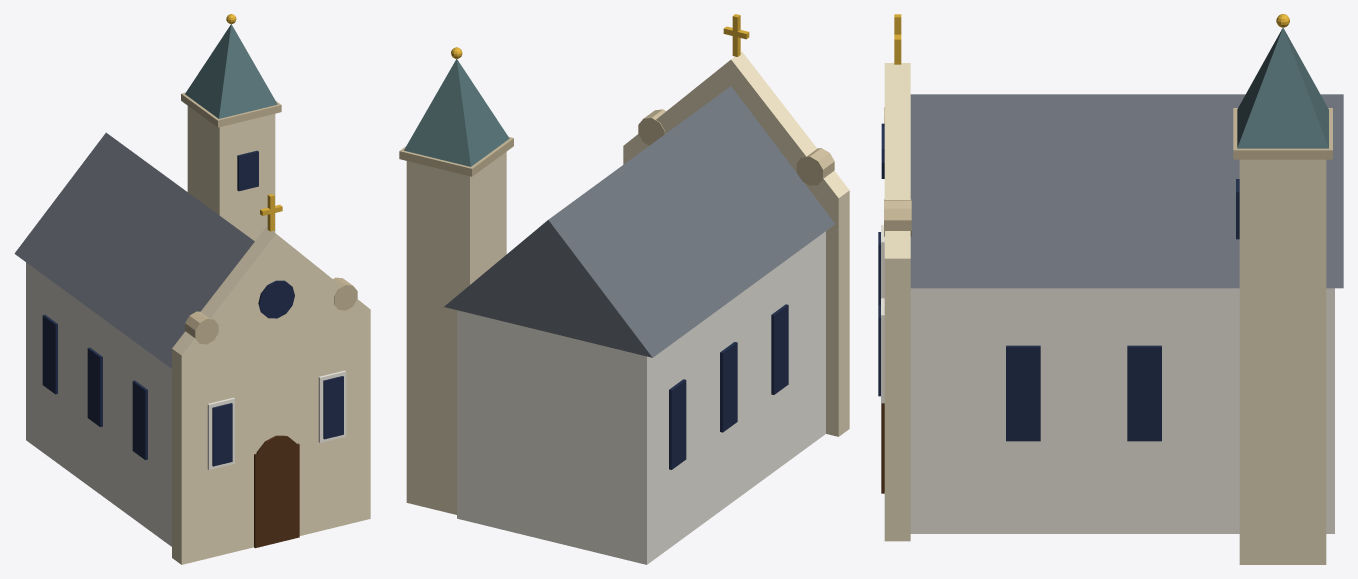
The model's file is kolegiata.glb.
The picture shows the model from 3 angles, left to right: view 1: azimuth 30°, elevation 25°; view 2: azimuth 150°, elevation 25°; view 3: azimuth 270°, elevation 25°; orthographic projection. The views are drawn at different scales.
Visible parts, largest first — view 1: kolegiata; view 2: kolegiata; view 3: kolegiata.
Part boxes in pixels (x1,y1,x2,y2): kolegiata: (14,14,370,564); kolegiata: (399,14,849,564); kolegiata: (878,14,1343,564).
Size of the model in its own units: 4.12 by 6.78 by 5.38.
